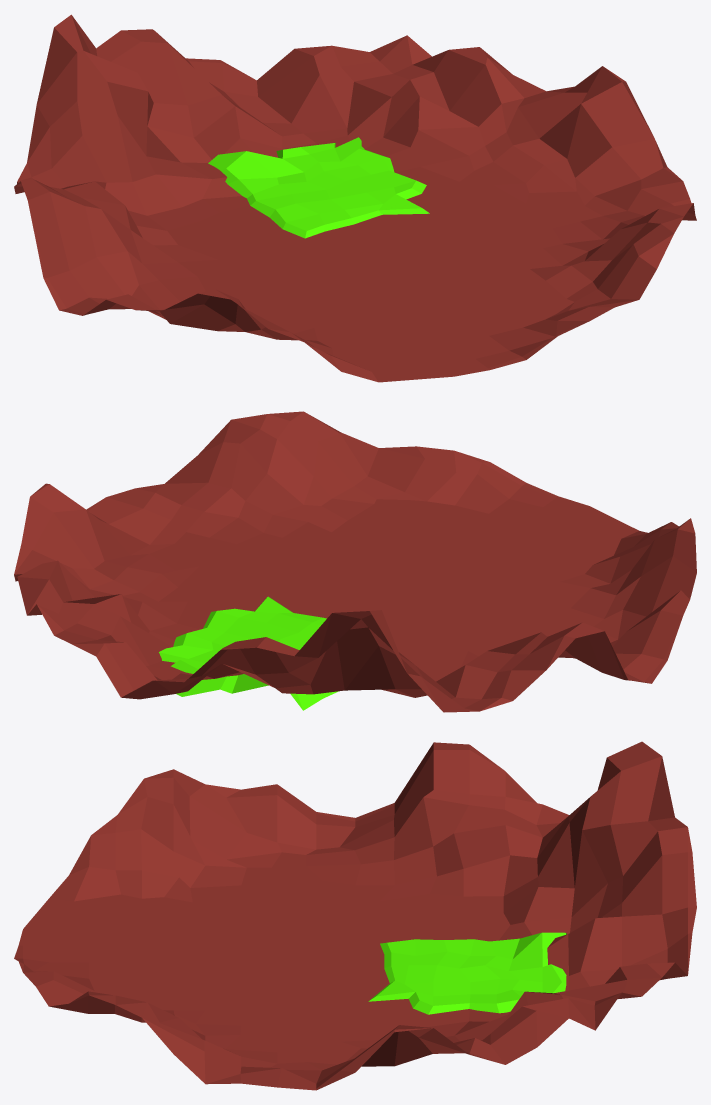
Rendered from Mars-One_map_terraforming_01.FBX.
The picture shows the model from 3 angles, top to bottom: view 1: azimuth 30°, elevation 25°; view 2: azimuth 150°, elevation 25°; view 3: azimuth 270°, elevation 25°; orthographic projection.
Parts seen in each view (by area): view 1: Circle001; view 2: Circle001; view 3: Circle001.
Boxes of the visible parts, x1,y1,x2,y2 form: Circle001: [14, 14, 696, 382]; Circle001: [14, 411, 696, 712]; Circle001: [14, 741, 696, 1090].
Bounding box in the file's own units: 413 × 105 × 414.
Materials: 1 (1 with a texture image).
